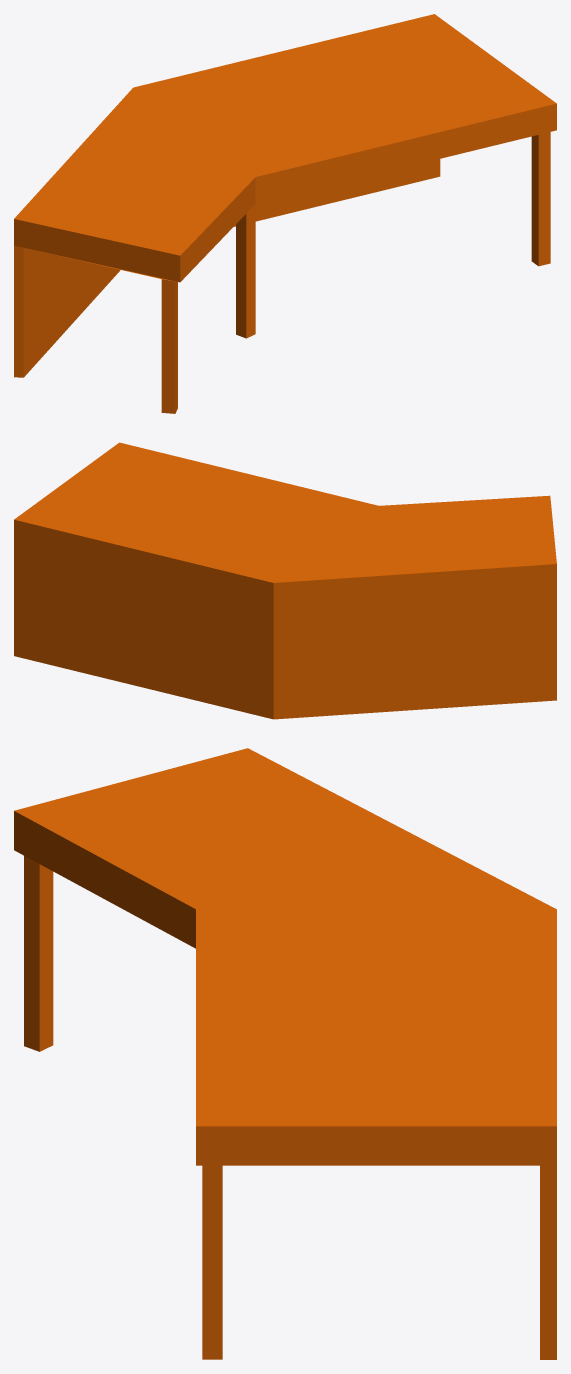
Rendered from office-desk-fixed.fbx.
3 renders of one model, top to bottom at view 1: azimuth 30°, elevation 25°; view 2: azimuth 150°, elevation 25°; view 3: azimuth 270°, elevation 25°, orthographic. The views are drawn at different scales.
Parts seen in each view (by area): view 1: Desk; view 2: Desk; view 3: Desk.
Part boxes in pixels (x1,y1,x2,y2): Desk: (14,14,556,413); Desk: (14,442,556,719); Desk: (14,748,556,1359).
Bounding box in the file's own units: 1075 × 314 × 652.
